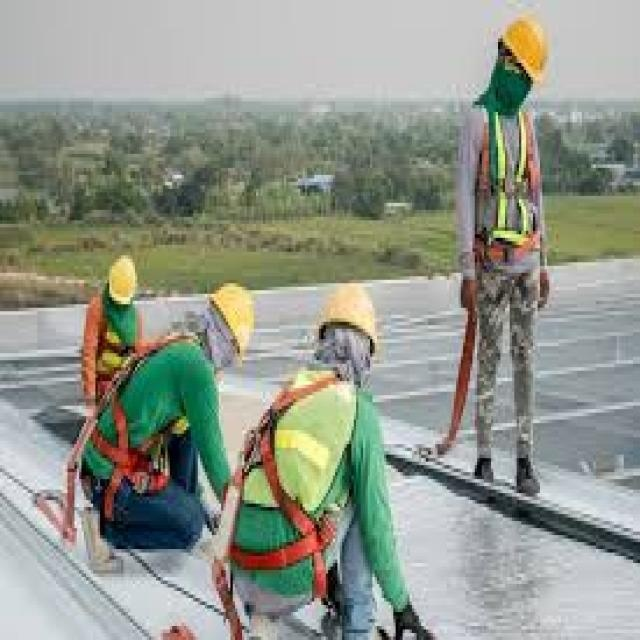Arnes_seguridad: (223, 369, 345, 602), (70, 328, 204, 523), (473, 91, 543, 284), (82, 295, 142, 410)
